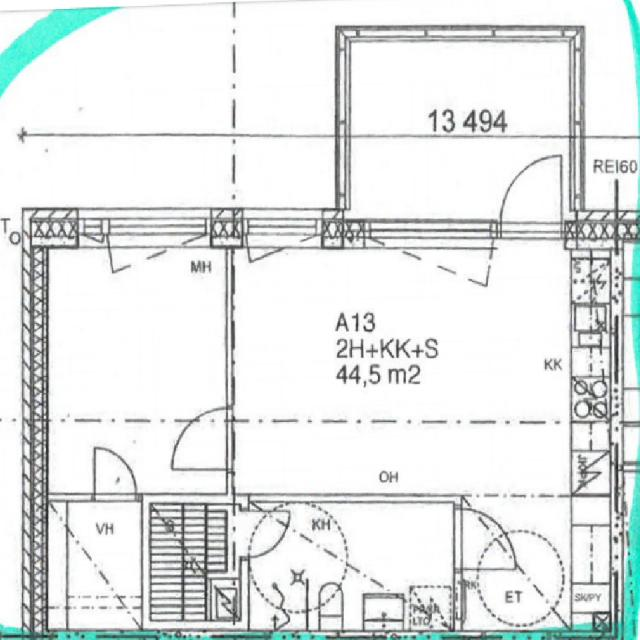door: (499, 154, 562, 239), (452, 509, 515, 569), (172, 408, 232, 469), (240, 512, 290, 558), (94, 449, 135, 502)
